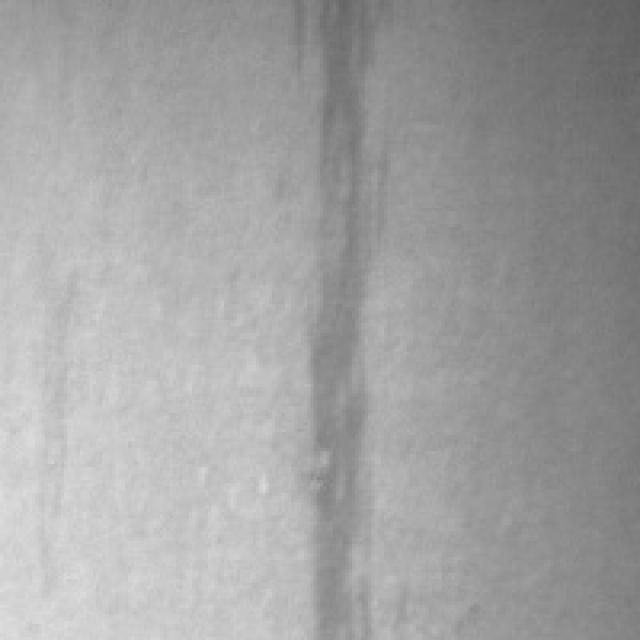inclusion: (285, 0, 397, 627)
